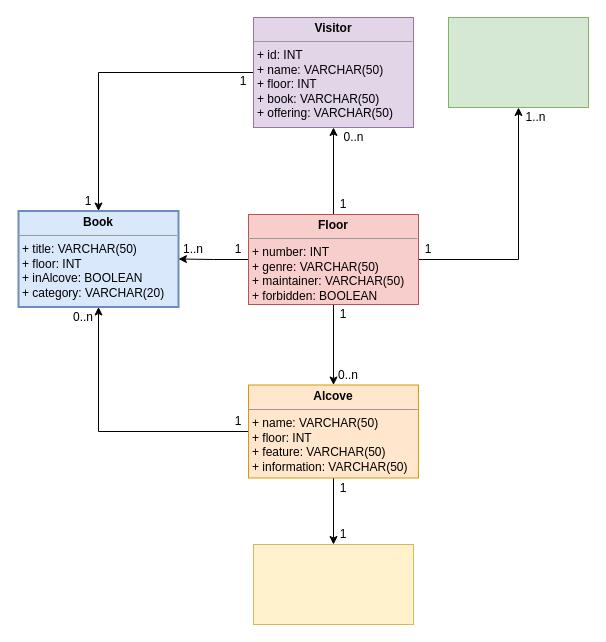
Image size: 606x642. Some labels were removed from this diagram. The box of each missing label's shape, as (x1, y1, x2, y2) in pixels:
Feature + name: VARCHAR(50) + designer: VARCHAR(50) + age: INT: (252, 544, 414, 624)
Worker + id: INT + name: VARCHAR(50) + role: VARCHAR(20) + inLibrary: BOOLEAN: (448, 16, 588, 108)
